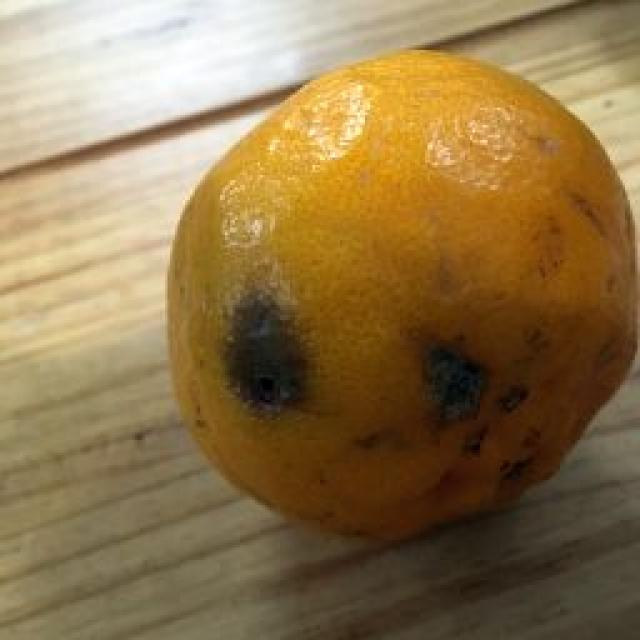Bad_Orange: (169, 51, 636, 538)
